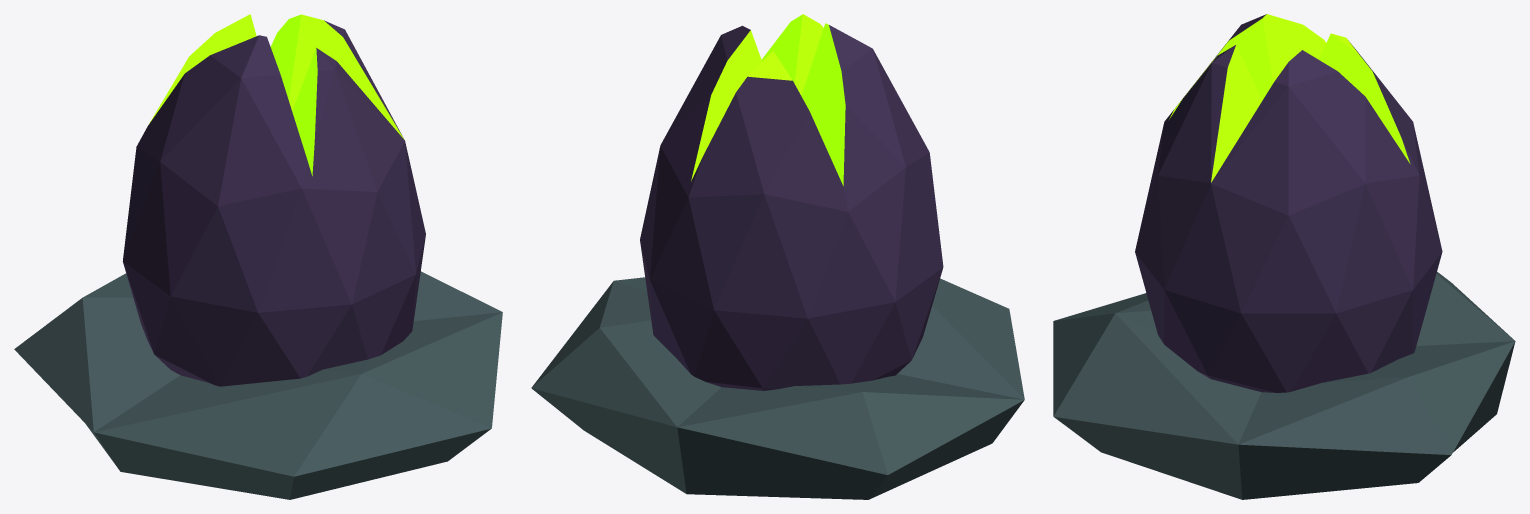
File: LPSciFiCharacter_AlienEggB.fbx
3 renders of one model, left to right at view 1: azimuth 30°, elevation 25°; view 2: azimuth 150°, elevation 25°; view 3: azimuth 270°, elevation 25°, orthographic.
Parts seen in each view (by area): view 1: AlienEggB; view 2: AlienEggB; view 3: AlienEggB.
Boxes of the visible parts, x1,y1,x2,y2 form: AlienEggB: [14, 14, 502, 499]; AlienEggB: [531, 14, 1024, 499]; AlienEggB: [1053, 14, 1515, 499].
Bounding box in the file's own units: 73.09 × 66.58 × 71.94.
